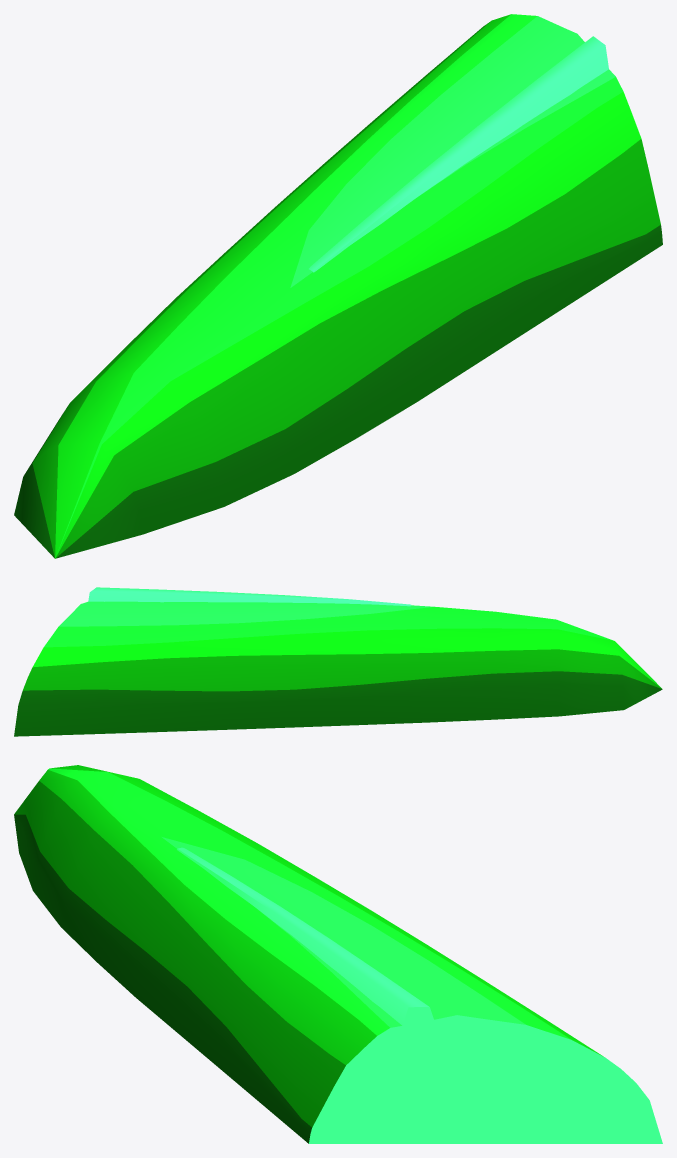
The model's file is shot_sonic_b248.glb.
3 renders of one model, top to bottom at view 1: azimuth 30°, elevation 25°; view 2: azimuth 150°, elevation 25°; view 3: azimuth 270°, elevation 25°, orthographic. The views are drawn at different scales.
Visible parts, largest first — view 1: sonic_chevron_wave_b248, sonic_chevron_core_b248; view 2: sonic_chevron_wave_b248, sonic_chevron_core_b248; view 3: sonic_chevron_wave_b248, sonic_chevron_core_b248.
Boxes of the visible parts, x1=… form: sonic_chevron_wave_b248: x1=14, y1=14, x2=662, y2=558; sonic_chevron_core_b248: x1=309, y1=36, x2=608, y2=272; sonic_chevron_wave_b248: x1=14, y1=601, x2=662, y2=736; sonic_chevron_core_b248: x1=88, y1=587, x2=411, y2=606; sonic_chevron_wave_b248: x1=14, y1=765, x2=662, y2=1143; sonic_chevron_core_b248: x1=177, y1=847, x2=453, y2=1143.
Bounding box in the file's own units: 7.8 × 1.51 × 6.49.
